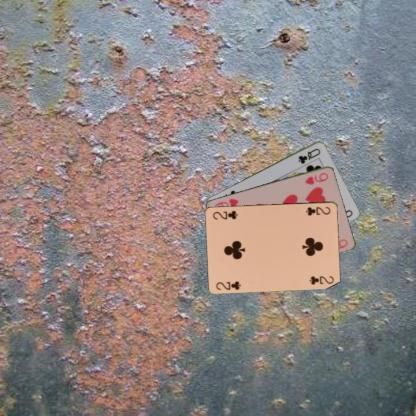2c: (303, 204, 332, 217), (214, 278, 242, 291)
9h: (303, 170, 329, 186)
Qc: (295, 146, 322, 164)
